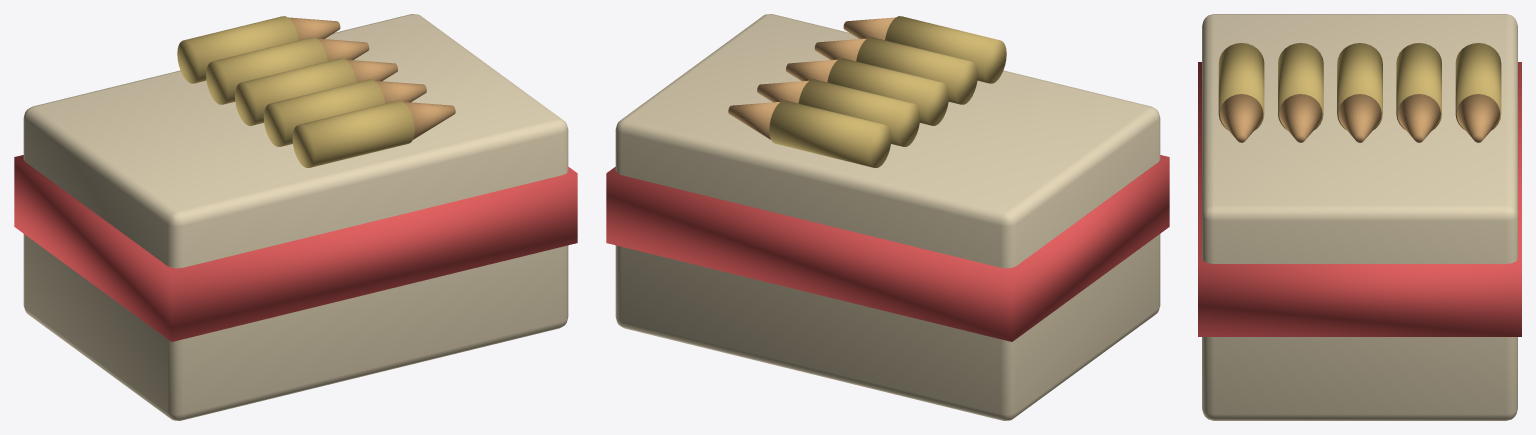
File: SM_Ammo_357.glb
3 views of the same model, side by side, from view 1: azimuth 30°, elevation 25°; view 2: azimuth 150°, elevation 25°; view 3: azimuth 270°, elevation 25° (orthographic). The views are drawn at different scales.
Visible parts, largest first — view 1: SM_Ammo_357; view 2: SM_Ammo_357; view 3: SM_Ammo_357.
Part boxes in pixels (x1,y1,x2,y2): SM_Ammo_357: (14,14,577,420); SM_Ammo_357: (606,14,1169,420); SM_Ammo_357: (1198,14,1521,420).
Bounding box in the file's own units: 0.122 × 0.0718 × 0.082.
